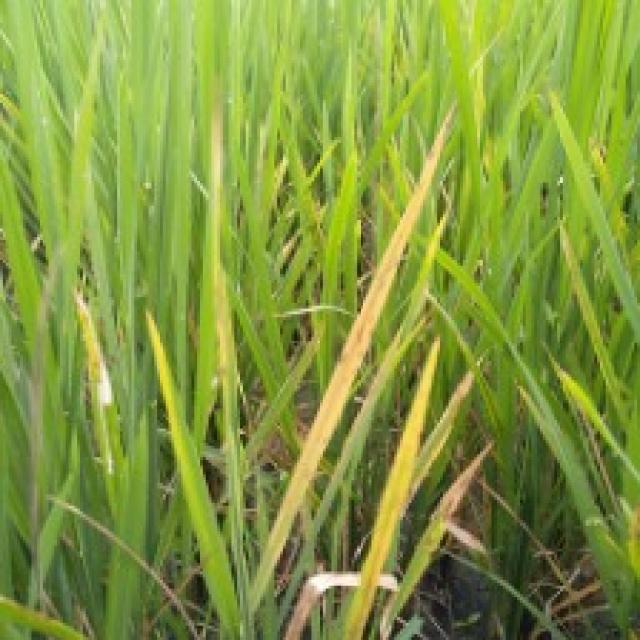Rice___Brown_Spot: (249, 100, 455, 600), (349, 329, 443, 637)
